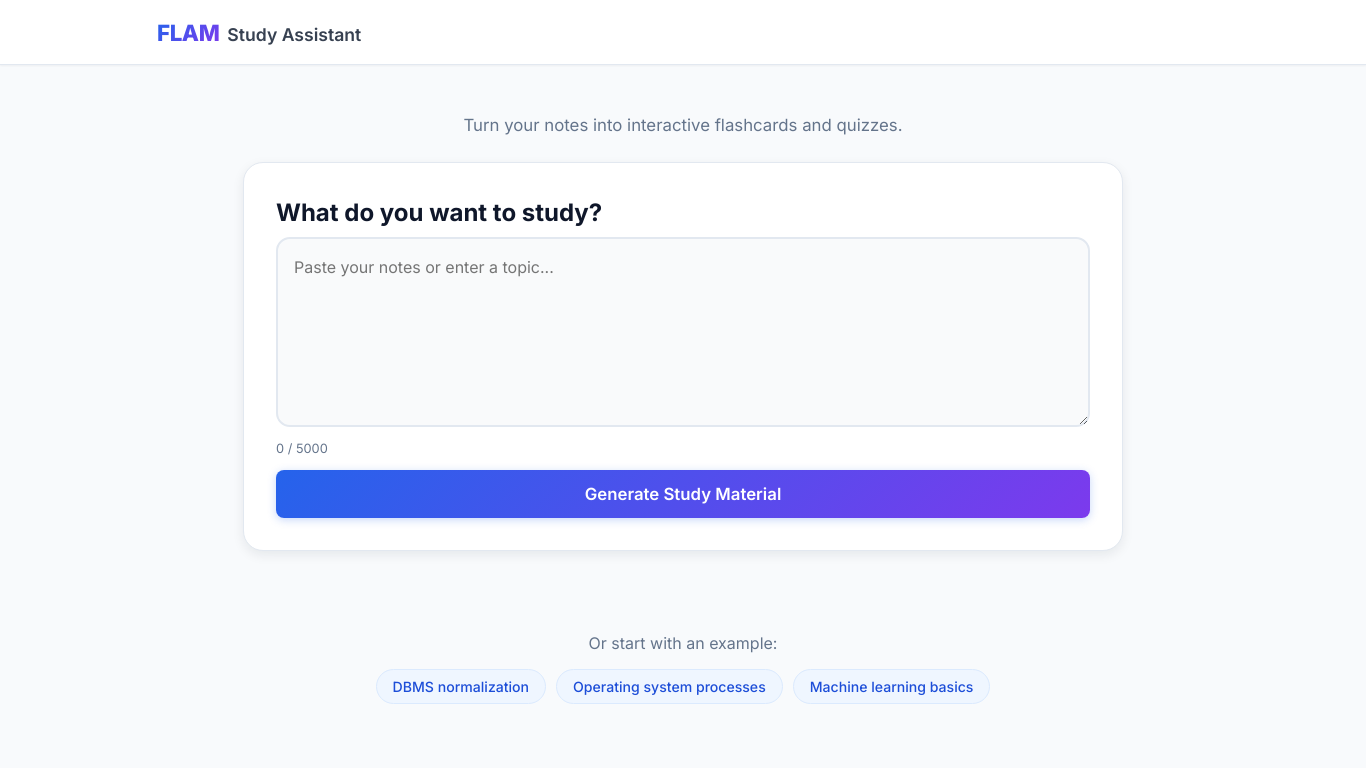
Test: App request flow › shows the backend timeout message in the error state
Step 1. Type "A slow topic" into the text box named "Notes or Topic" → {"x": 683, "y": 332}, box [276, 237, 1090, 427]
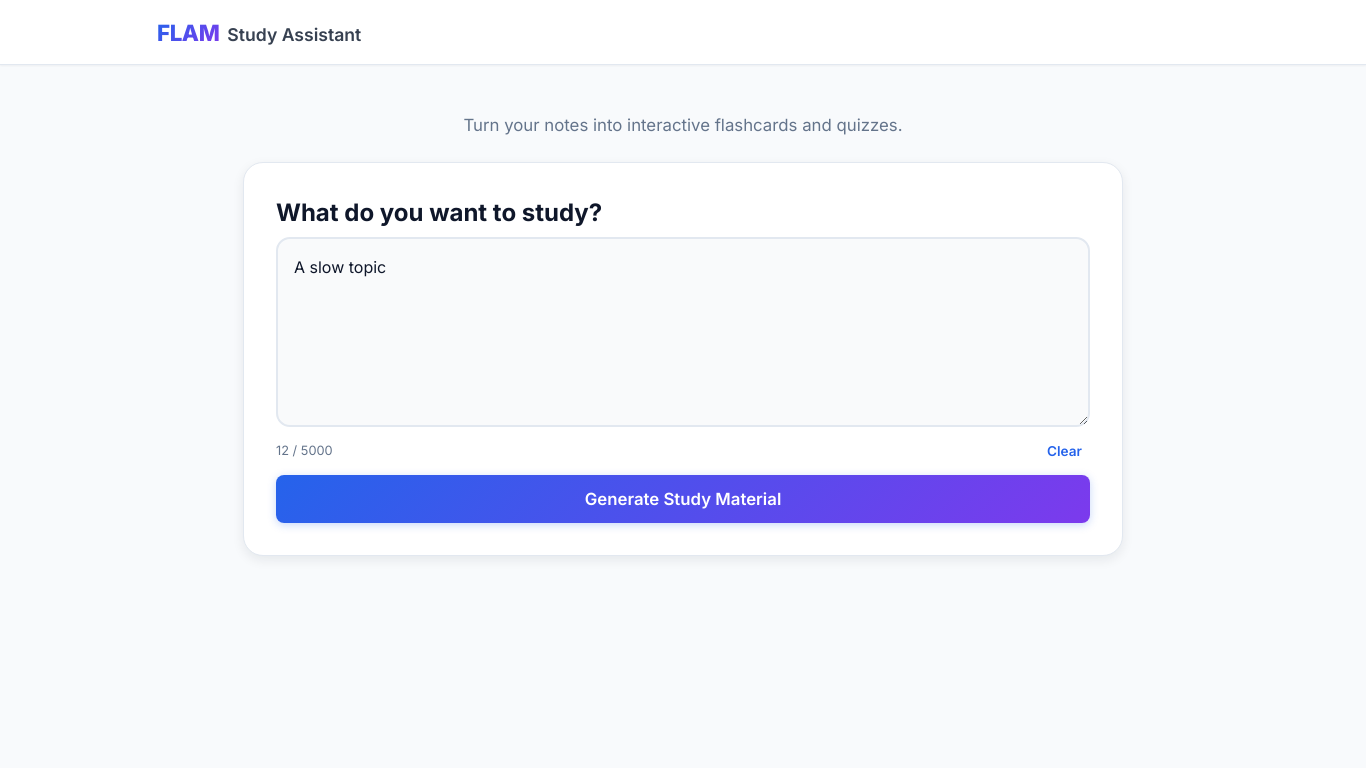
Step 2. Click the button "Generate Study Material" → {"x": 683, "y": 499}, box [276, 475, 1090, 523]
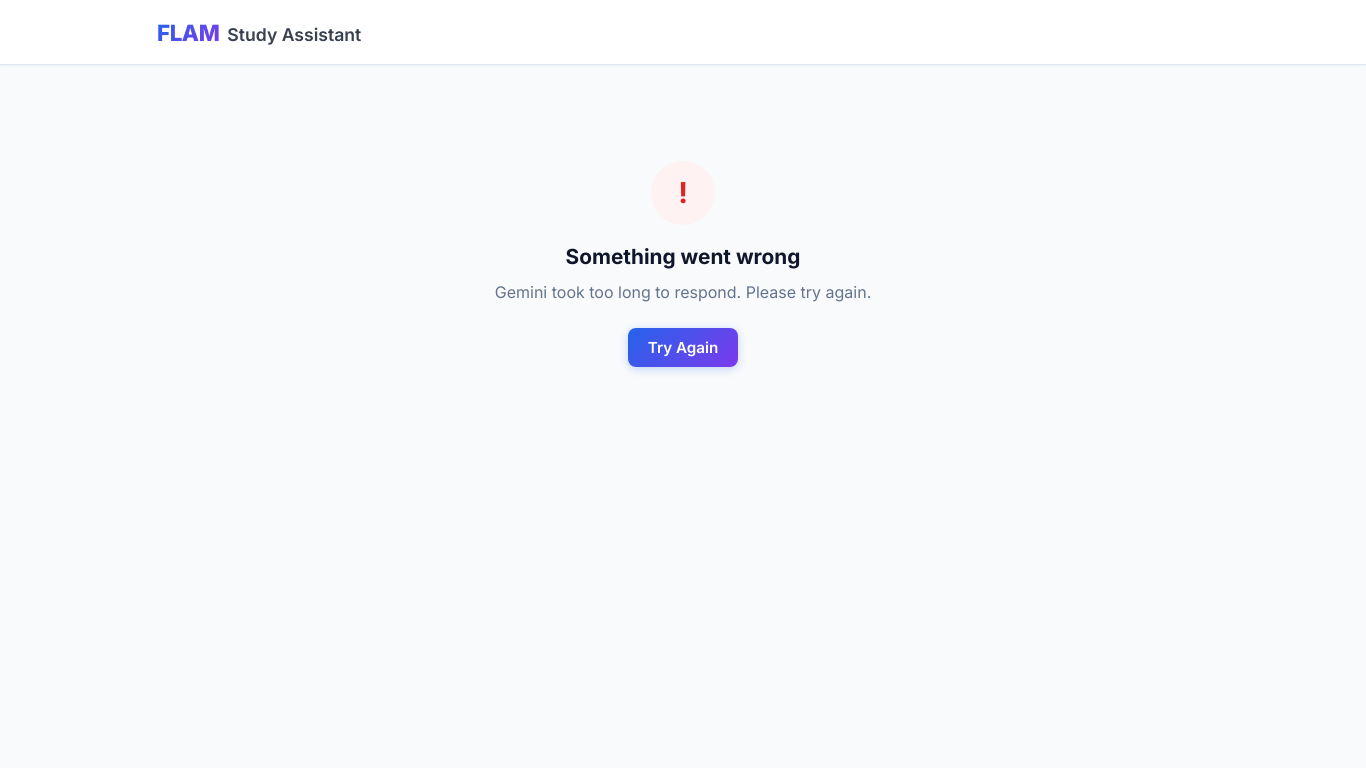
Check: the message shows "Gemini took too long", box [495, 282, 871, 302]
